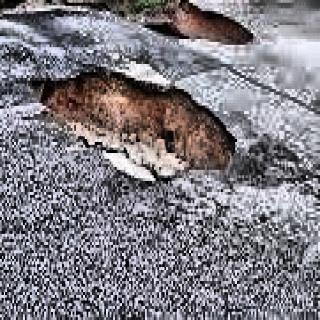pothole: (27, 60, 245, 185), (79, 0, 252, 50)
